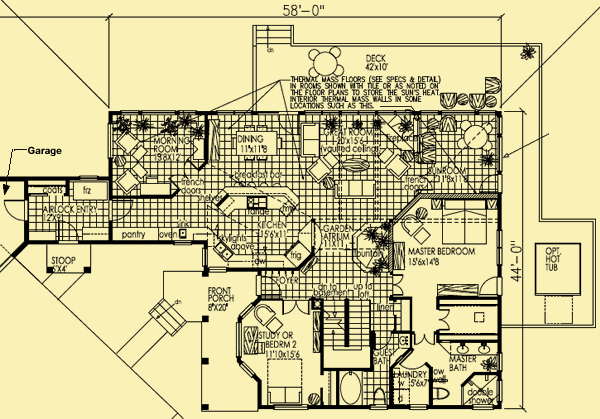bedroom has a double bed with a couch: (233, 298, 322, 405)
bedroom has a double bed with chairs: (389, 195, 500, 302)
hall has a dining table: (208, 114, 299, 189)
hall has a round dining table: (416, 111, 499, 197)
kitchen has a kitchen bar with sink and cooking range: (205, 181, 315, 273)
livingroom has small couches and large couches with tables: (295, 113, 418, 214)
livingroom has small couches and tables: (110, 109, 208, 202)
master bathroom has dual sinks with large sink and shower space: (428, 335, 503, 408)
